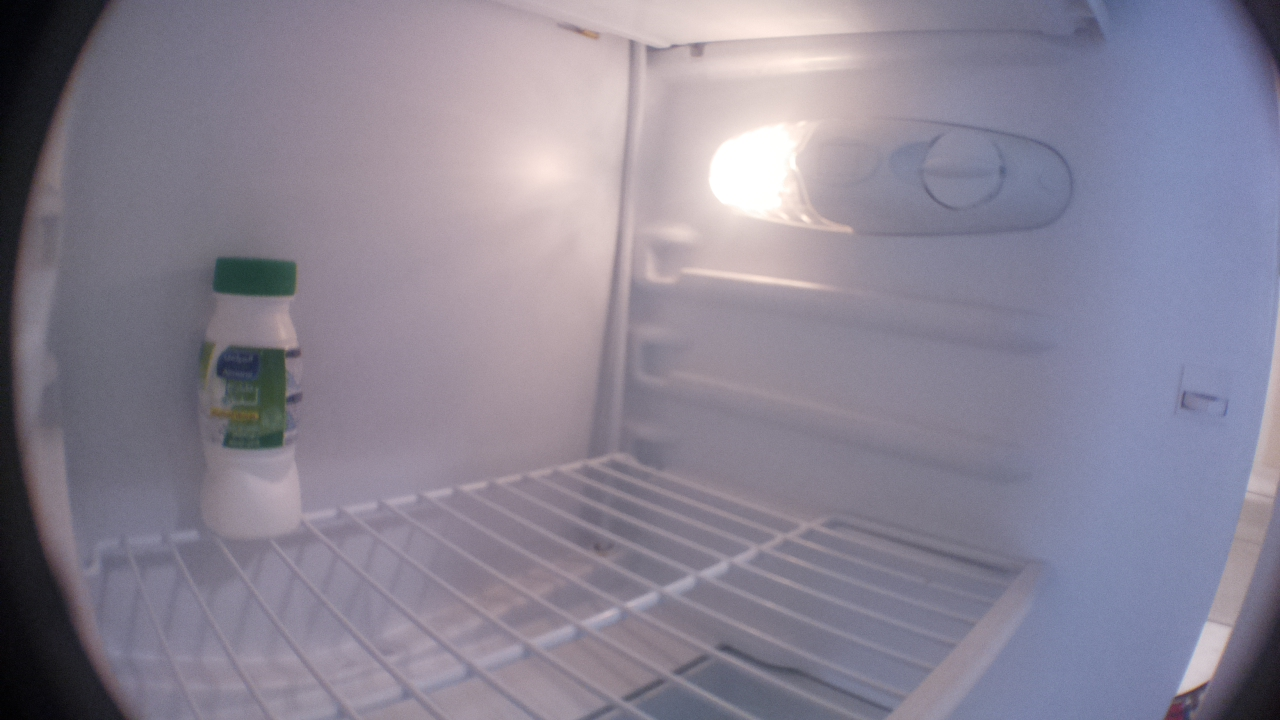laban: (195, 250, 300, 548)
